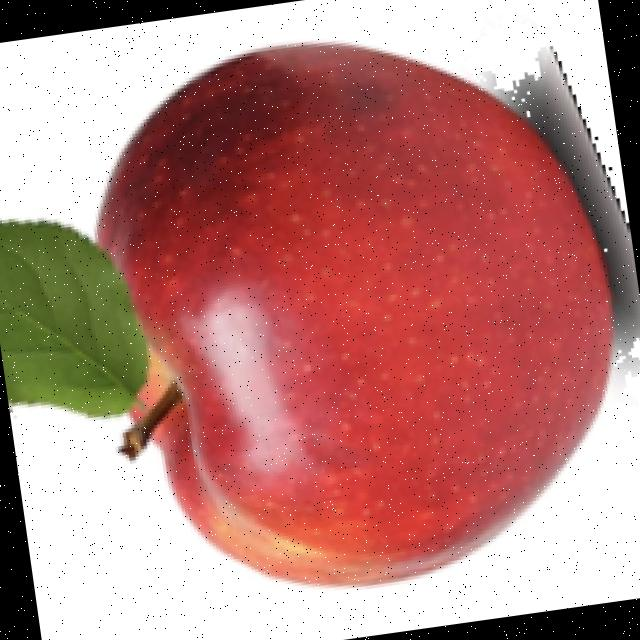apple: (0, 38, 640, 594)
